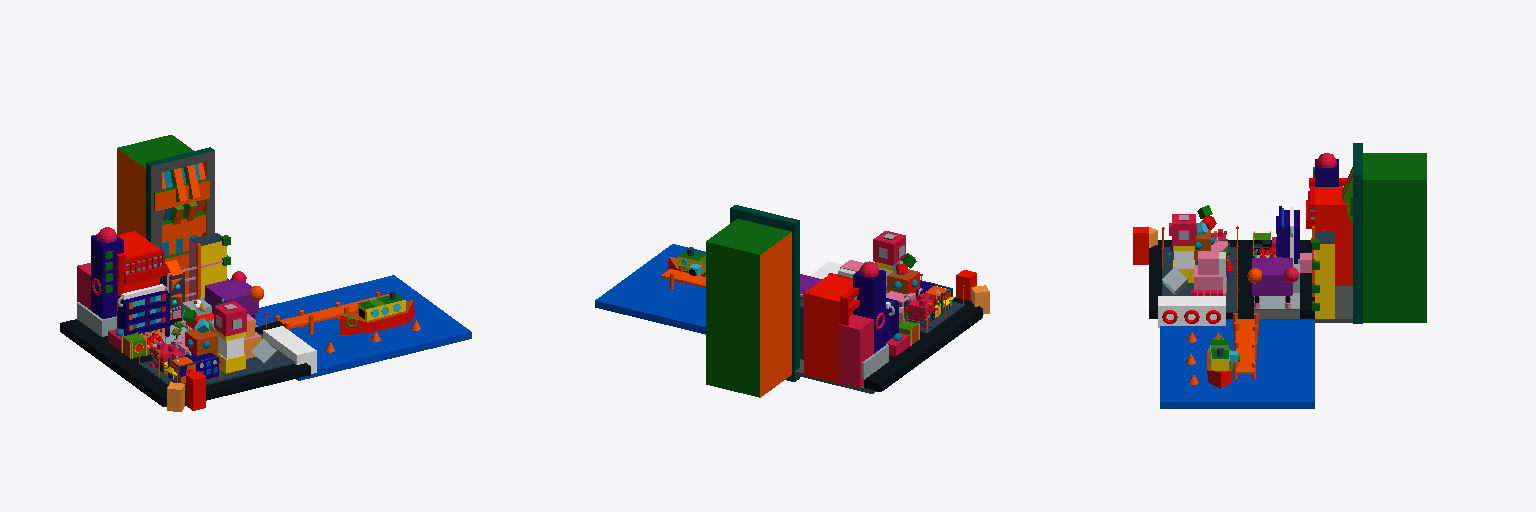
3 renders of one model, left to right at view 1: azimuth 30°, elevation 25°; view 2: azimuth 150°, elevation 25°; view 3: azimuth 270°, elevation 25°, orthographic.
Parts seen in each view (by area): view 1: group[number redacted], group[number redacted], group[number redacted], group[number redacted], group[number redacted], group[number redacted], group[number redacted], group[number redacted], group[number redacted], group[number redacted], group[number redacted], group[number redacted] (+9 smaller); view 2: group[number redacted], group[number redacted], group[number redacted], group[number redacted], group[number redacted], group[number redacted], group[number redacted], group[number redacted], group[number redacted], group[number redacted]; view 3: group[number redacted], group[number redacted], group[number redacted], group[number redacted], group[number redacted], group[number redacted], group[number redacted], group[number redacted], group[number redacted], group[number redacted], group[number redacted], group[number redacted] (+2 smaller).
Part boxes in pixels (left/top/right/bottom): group[number redacted]: left=255, top=275, right=471, bottom=380; group[number redacted]: left=117, top=135, right=209, bottom=300; group[number redacted]: left=60, top=318, right=310, bottom=406; group[number redacted]: left=91, top=235, right=123, bottom=328; group[number redacted]: left=189, top=233, right=226, bottom=300; group[number redacted]: left=263, top=326, right=316, bottom=373; group[number redacted]: left=205, top=279, right=258, bottom=315; group[number redacted]: left=146, top=160, right=161, bottom=248; group[number redacted]: left=118, top=291, right=166, bottom=337; group[number redacted]: left=340, top=300, right=414, bottom=334; group[number redacted]: left=117, top=231, right=159, bottom=292; group[number redacted]: left=145, top=358, right=294, bottom=390; group[number redacted]: left=706, top=219, right=791, bottom=397; group[number redacted]: left=595, top=244, right=705, bottom=334; group[number redacted]: left=804, top=275, right=852, bottom=382; group[number redacted]: left=864, top=297, right=982, bottom=391; group[number redacted]: left=839, top=314, right=873, bottom=387; group[number redacted]: left=853, top=270, right=885, bottom=353; group[number redacted]: left=784, top=218, right=799, bottom=381; group[number redacted]: left=873, top=231, right=905, bottom=265; group[number redacted]: left=730, top=205, right=787, bottom=229; group[number redacted]: left=887, top=269, right=919, bottom=293; group[number redacted]: left=1350, top=153, right=1426, bottom=322; group[number redacted]: left=1160, top=320, right=1314, bottom=408; group[number redacted]: left=1149, top=240, right=1314, bottom=318; group[number redacted]: left=1315, top=187, right=1352, bottom=285; group[number redacted]: left=1158, top=296, right=1225, bottom=327; group[number redacted]: left=1315, top=231, right=1334, bottom=318; group[number redacted]: left=1353, top=183, right=1362, bottom=323; group[number redacted]: left=1252, top=258, right=1292, bottom=295; group[number redacted]: left=1226, top=286, right=1352, bottom=322; group[number redacted]: left=1236, top=319, right=1254, bottom=373; group[number redacted]: left=1276, top=210, right=1299, bottom=263; group[number redacted]: left=1174, top=247, right=1237, bottom=312.
Bounding box in the file's own units: 5.95 × 2.9 × 4.85.